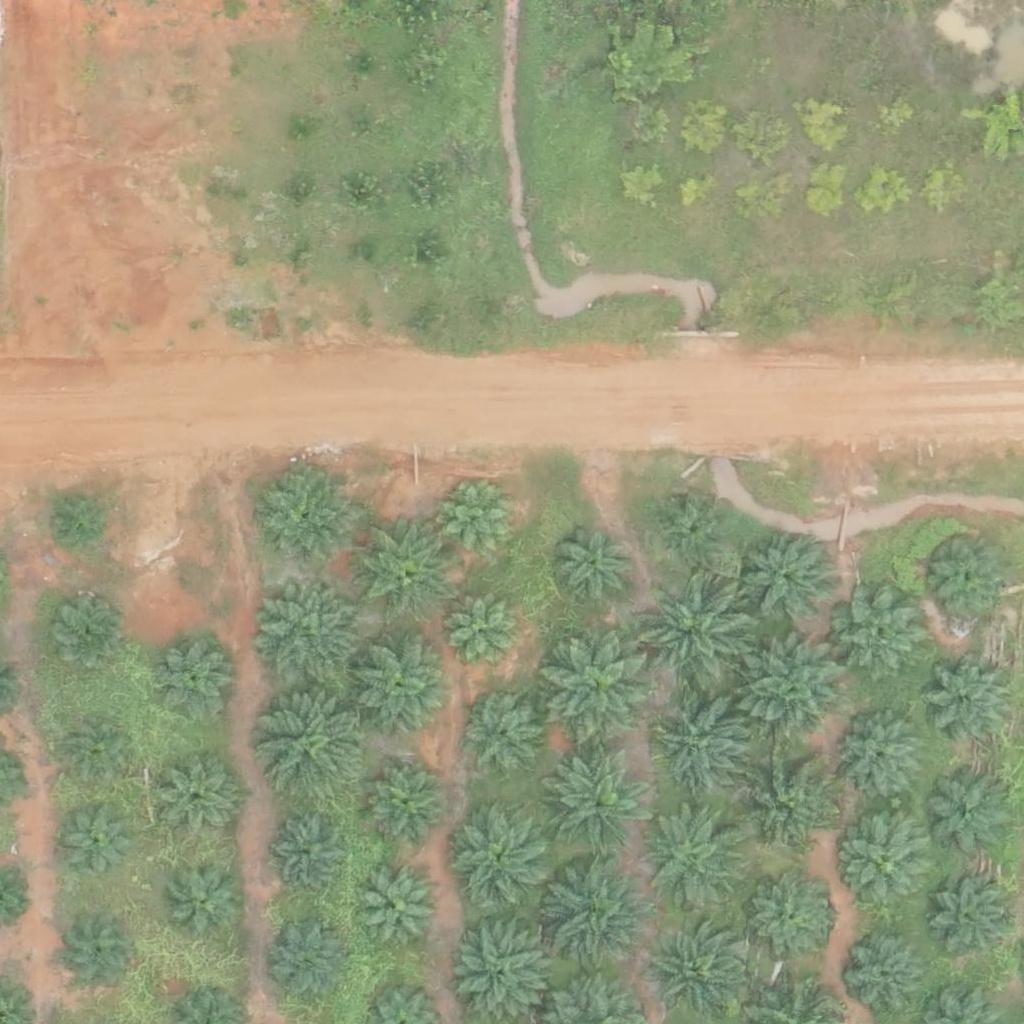Kelapa_Sawit: (641, 563, 766, 688), (256, 580, 369, 694), (262, 687, 375, 801), (543, 627, 656, 740), (548, 746, 661, 859), (542, 855, 655, 968), (257, 467, 357, 568), (355, 518, 455, 619), (656, 693, 756, 794), (646, 808, 746, 909), (744, 639, 844, 740), (736, 755, 836, 856), (355, 638, 455, 738), (452, 805, 552, 905), (455, 919, 555, 1019), (842, 817, 930, 906), (745, 537, 833, 625), (746, 872, 834, 960), (842, 929, 930, 1017), (552, 523, 639, 612), (440, 476, 527, 564), (836, 591, 923, 679), (838, 716, 925, 804), (926, 658, 1013, 746), (924, 771, 1011, 859), (924, 873, 1011, 961), (63, 710, 138, 786), (47, 600, 122, 676), (161, 761, 236, 837), (931, 537, 1006, 613), (156, 641, 231, 717), (276, 814, 351, 890), (274, 928, 349, 1004), (368, 767, 443, 843), (363, 871, 438, 947), (470, 700, 545, 776), (445, 593, 520, 668), (62, 917, 137, 992), (169, 861, 244, 936), (63, 801, 138, 876), (40, 492, 103, 555), (665, 500, 727, 563)
